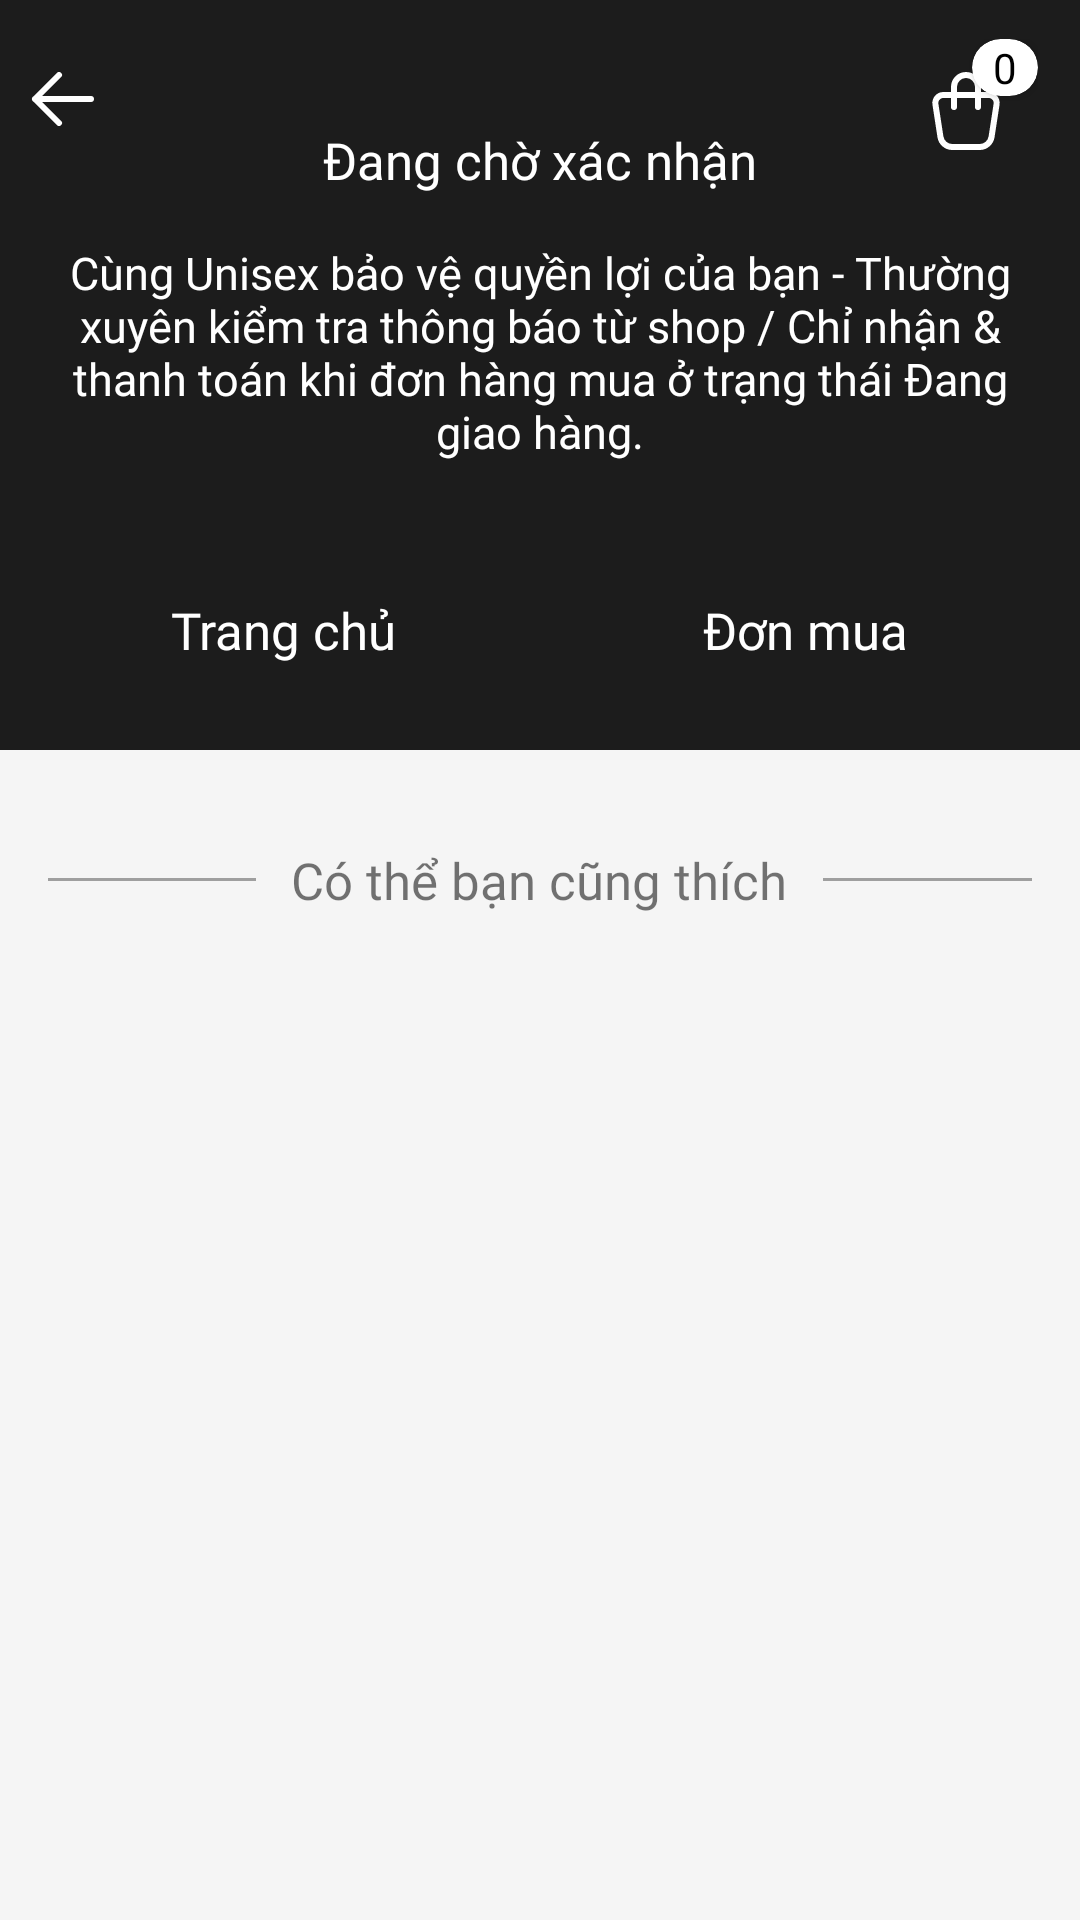

Icon bounding boxes for this 1080x1920 phone screenshot, format (x1, y1, x2, y2):
arow: (32, 72, 94, 126)
bag: (932, 63, 1014, 150)
